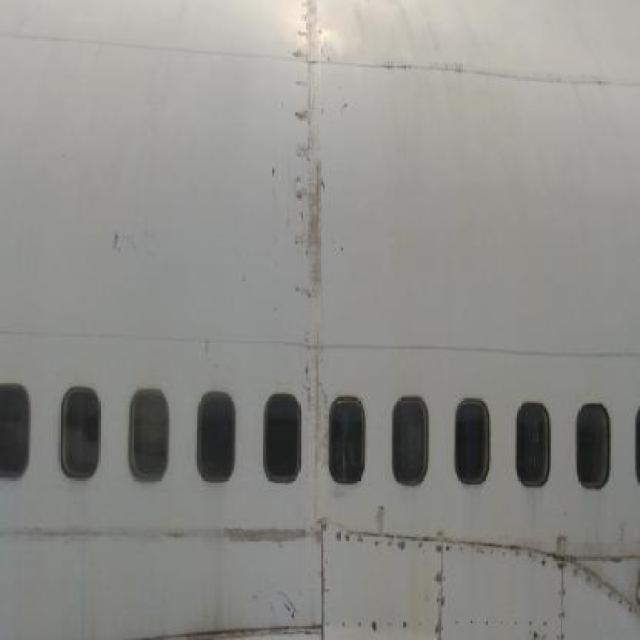Missing-Rivet: (238, 521, 635, 640)
Scartch: (285, 4, 332, 413)
